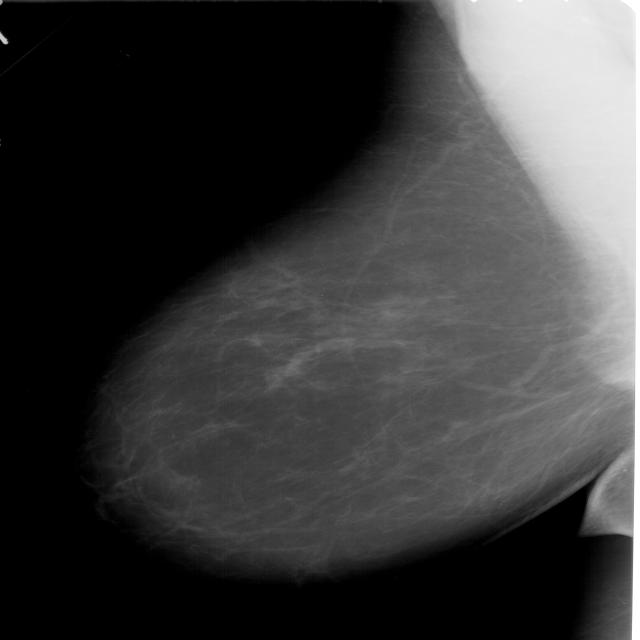normal: (44, 4, 640, 585)
